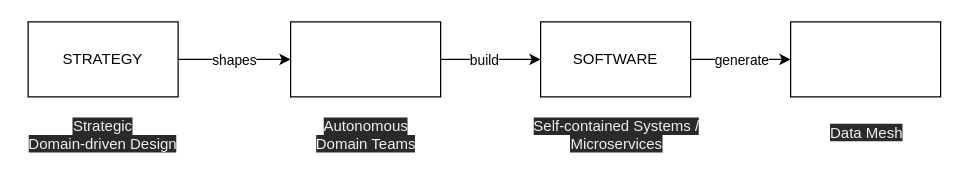
The diagram is 963 pixels wide and 181 high, and some of its shapes have lost their labels. Here are the shapes that lost their labels. From the top down, the centre of each, then its label:
(365,59): ORGANIZATION
(865,59): DATA
